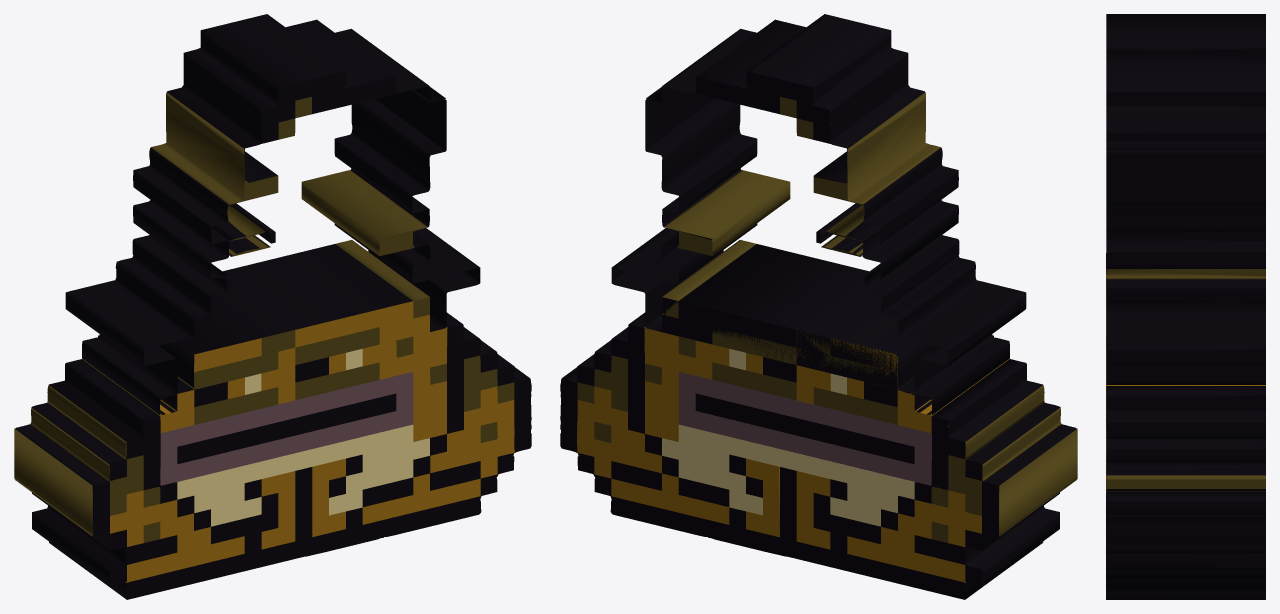
File: Toadz_5059.glb
3 views of the same model, side by side, from view 1: azimuth 30°, elevation 25°; view 2: azimuth 150°, elevation 25°; view 3: azimuth 270°, elevation 25° (orthographic). The views are drawn at different scales.
Parts seen in each view (by area): view 1: Curve; view 2: Curve; view 3: Curve.
Part boxes in pixels (x1,y1,x2,y2): Curve: (14, 14, 531, 599); Curve: (560, 14, 1077, 599); Curve: (1106, 14, 1265, 599).
Bounding box in the file's own units: 3.24 × 3.36 × 1.
